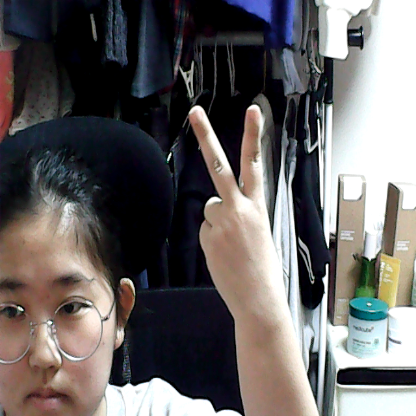Finger_2: (181, 92, 303, 328)
